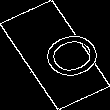O_SW: (15, 24, 95, 86)
